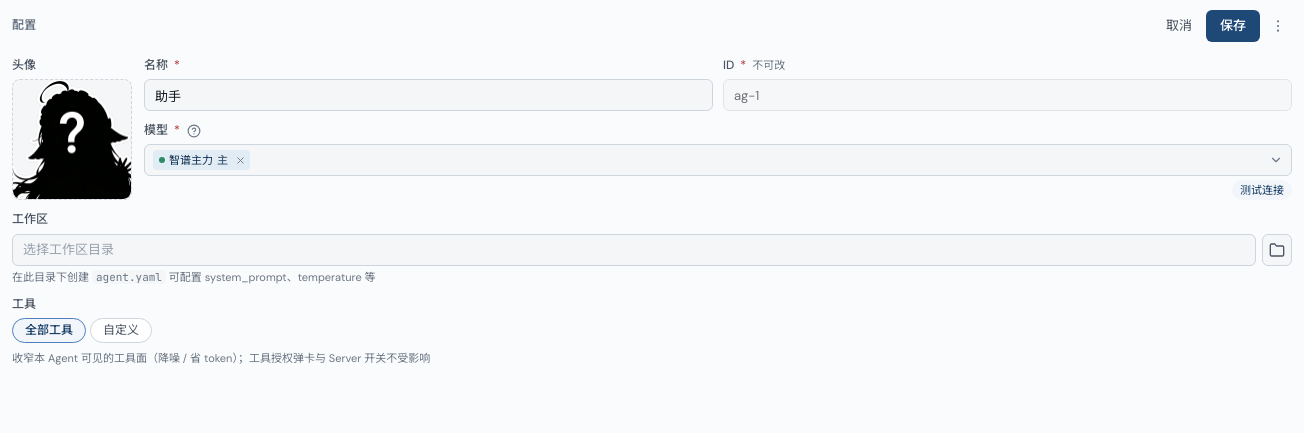
Scenario: AgentForm 编辑态配置链（合并 tag 选择器） › 清空链保存被拦：提示至少选择一个模型配置（≥1 校验）
This screenshot has width=1304, height=433.
Click the button with class "tag-x" at x=240, y=160, box [232, 152, 248, 168]
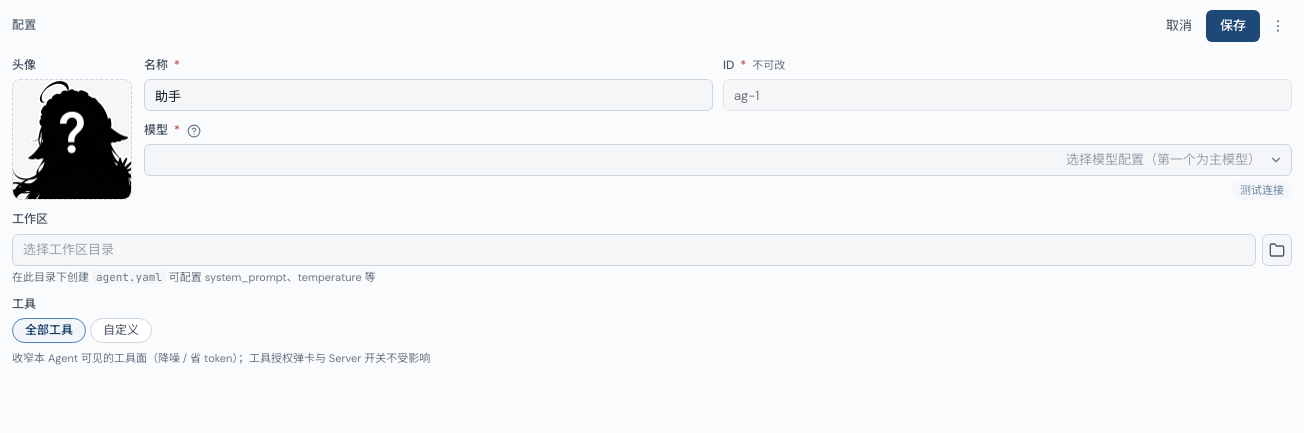
Expected: the text "选择模型配置（第一个为主模型）" is shown, [1066, 150, 1261, 171]
Click the button "保存" at x=1233, y=26, box [1206, 10, 1260, 42]
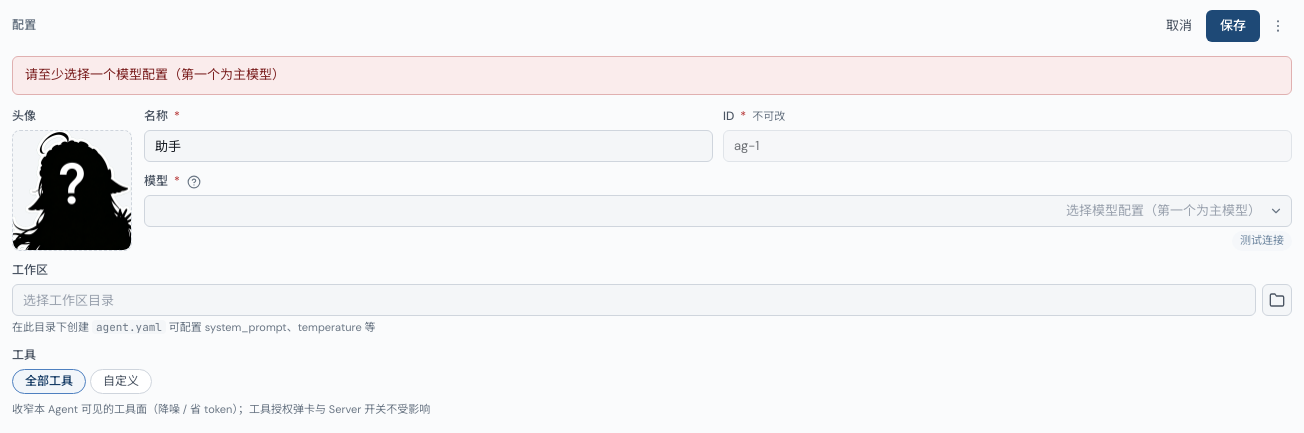
Expected: the text with class "form-error" shows "至少选择一个模型配置", [25, 66, 285, 83]
